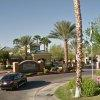Tree: (22, 23, 75, 55)
